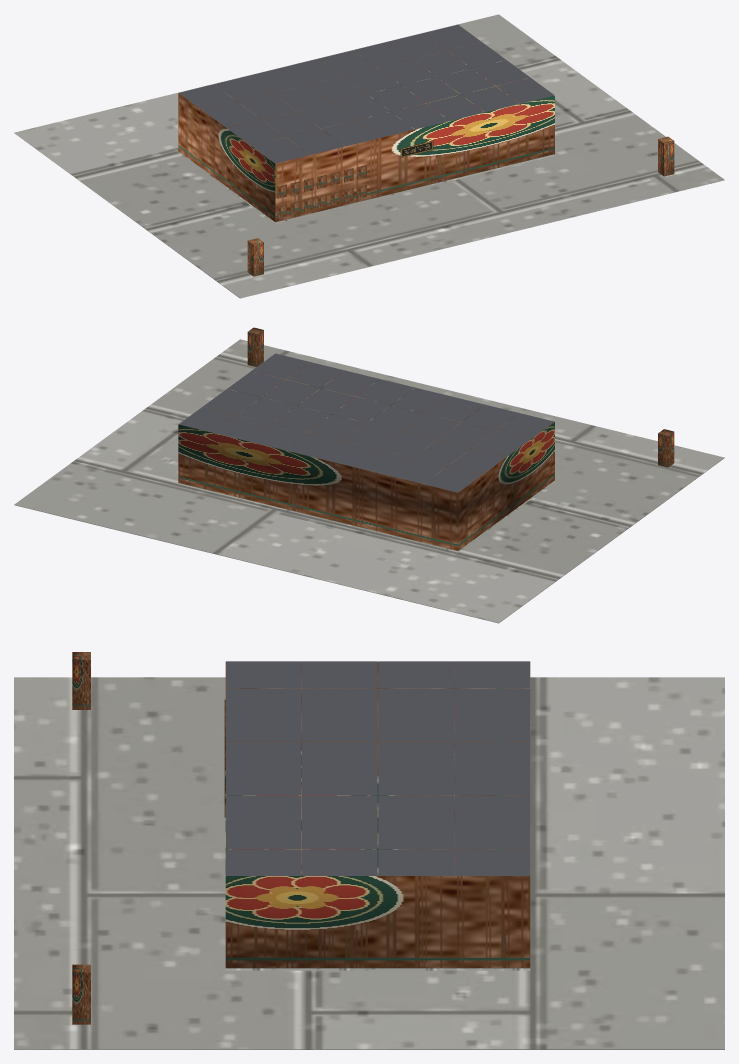
The picture shows the model from 3 angles, top to bottom: view 1: azimuth 30°, elevation 25°; view 2: azimuth 150°, elevation 25°; view 3: azimuth 270°, elevation 25°; orthographic projection. The views are drawn at different scales.
Parts seen in each view (by area): view 1: 11680_01_06238_032_01_L2__base, 11680_01_06238_032_03_L2__roof, 11680_01_06238_032_02_L2__body, 11680_01_06238_032_05_L2__openings, 11680_01_06238_032_06_L2__green; view 2: 11680_01_06238_032_01_L2__base, 11680_01_06238_032_03_L2__roof, 11680_01_06238_032_02_L2__body, 11680_01_06238_032_06_L2__green; view 3: 11680_01_06238_032_01_L2__base, 11680_01_06238_032_03_L2__roof, 11680_01_06238_032_02_L2__body, 11680_01_06238_032_06_L2__green.
Part boxes in pixels (left/top/right/bottom): 11680_01_06238_032_01_L2__base: left=14, top=14, right=724, bottom=298; 11680_01_06238_032_03_L2__roof: left=179, top=24, right=554, bottom=163; 11680_01_06238_032_02_L2__body: left=178, top=33, right=554, bottom=222; 11680_01_06238_032_05_L2__openings: left=277, top=165, right=366, bottom=218; 11680_01_06238_032_06_L2__green: left=247, top=136, right=674, bottom=276; 11680_01_06238_032_01_L2__base: left=14, top=339, right=724, bottom=623; 11680_01_06238_032_03_L2__roof: left=179, top=353, right=554, bottom=492; 11680_01_06238_032_02_L2__body: left=178, top=362, right=554, bottom=550; 11680_01_06238_032_06_L2__green: left=247, top=327, right=674, bottom=467; 11680_01_06238_032_01_L2__base: left=14, top=677, right=724, bottom=1049; 11680_01_06238_032_03_L2__roof: left=226, top=661, right=529, bottom=875; 11680_01_06238_032_02_L2__body: left=225, top=662, right=530, bottom=968; 11680_01_06238_032_06_L2__green: left=72, top=652, right=90, bottom=1024.
Bounding box in the file's own units: 104 × 12.42 × 84.
Materials: 5 (5 with a texture image).
